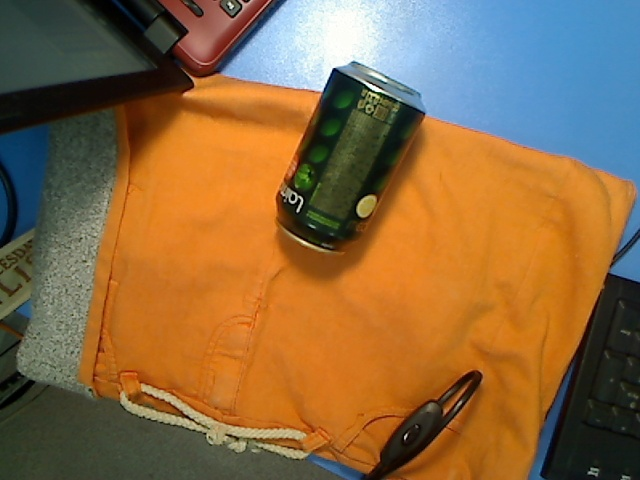can: (273, 60, 426, 256)
